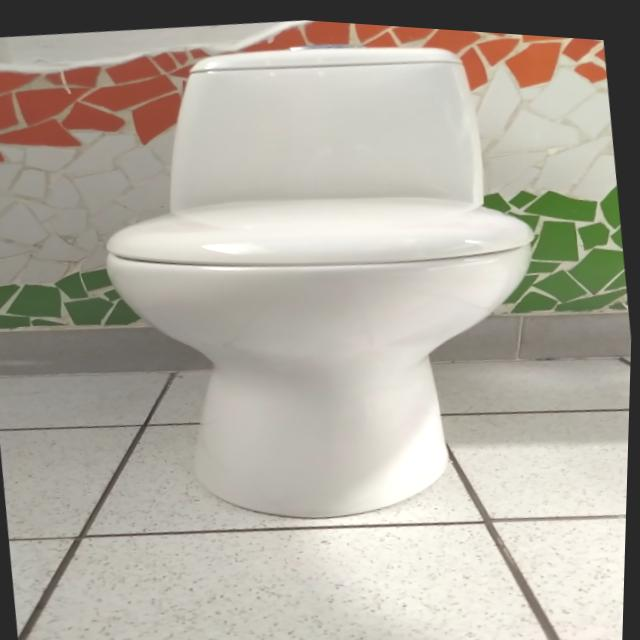toilet: (75, 5, 573, 548)
